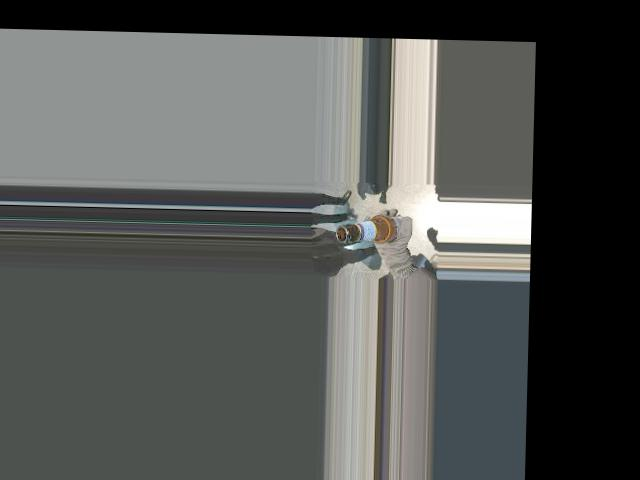beer: (335, 211, 408, 245)
